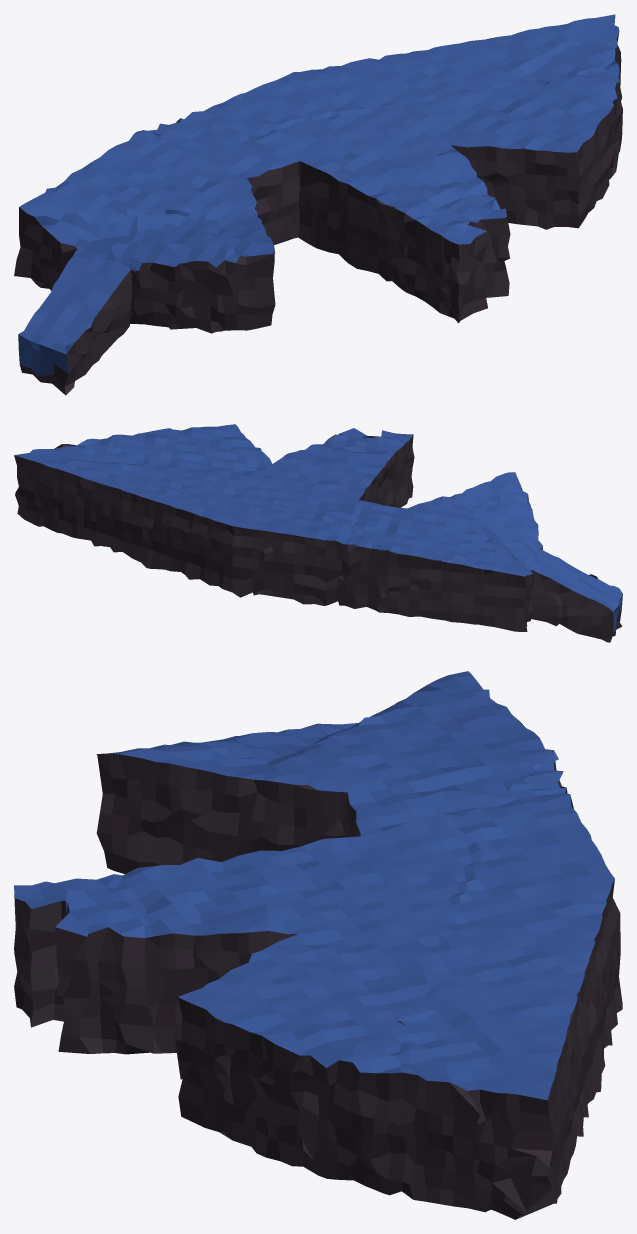
The model's file is highground 1.fbx.
3 views of the same model, one above another, from view 1: azimuth 30°, elevation 25°; view 2: azimuth 150°, elevation 25°; view 3: azimuth 270°, elevation 25° (orthographic). The views are drawn at different scales.
Parts seen in each view (by area): view 1: Plane.001; view 2: Plane.001; view 3: Plane.001.
Part boxes in pixels (left/top/right/bottom): Plane.001: left=14, top=14, right=622, bottom=395; Plane.001: left=14, top=424, right=622, bottom=642; Plane.001: left=14, top=671, right=622, bottom=1219.
Bounding box in the file's own units: 24284 × 4744 × 12391.
